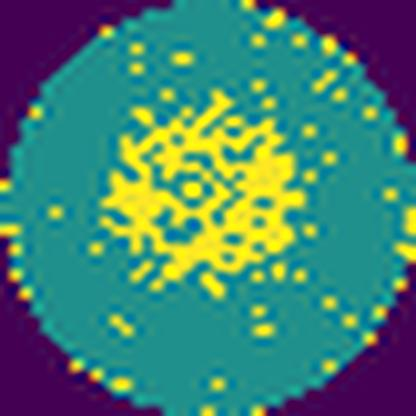Center: (108, 90, 309, 281)
